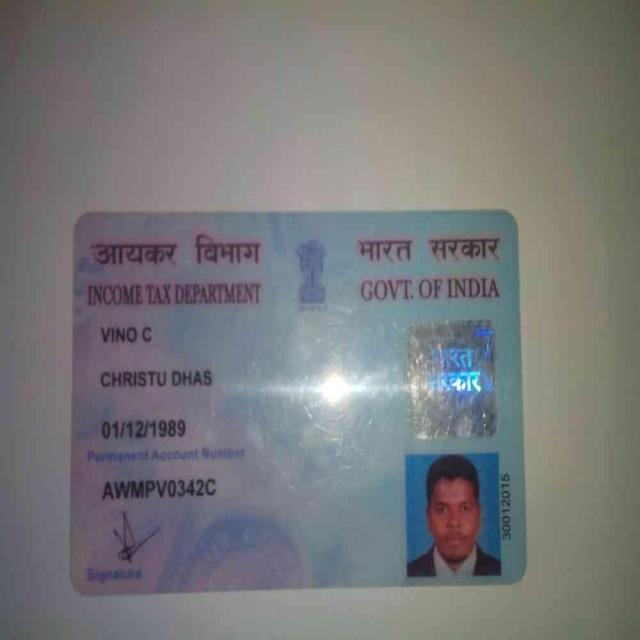pan_card: (74, 214, 523, 591)
